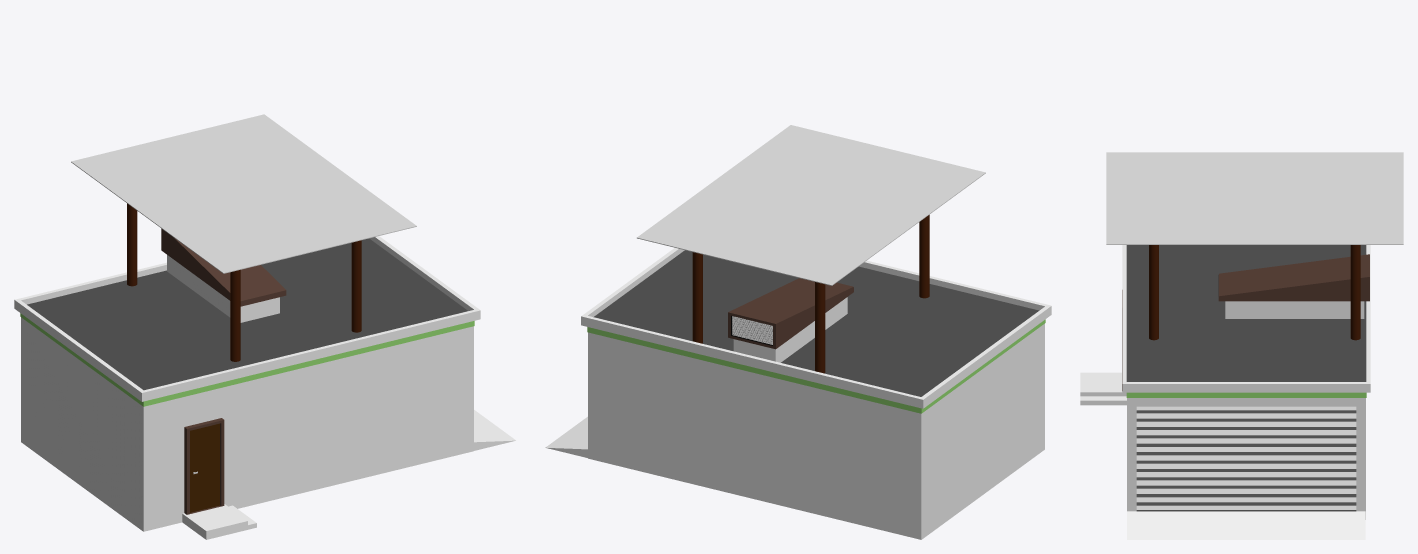
Rendered from garage_imp.glb.
3 renders of one model, left to right at view 1: azimuth 30°, elevation 25°; view 2: azimuth 150°, elevation 25°; view 3: azimuth 270°, elevation 25°, orthographic. The views are drawn at different scales.
Parts seen in each view (by area): view 1: Garage, Плоскость, Навес; view 2: Garage, Плоскость, Навес, Решетка на крыше; view 3: Garage, Плоскость, GarageDoor, Навес.
Boxes of the visible parts, <box> form: Garage: <box>14,228,515,539</box>; Плоскость: <box>71,114,416,273</box>; Навес: <box>127,203,361,361</box>; Garage: <box>545,248,1051,539</box>; Плоскость: <box>637,125,985,285</box>; Навес: <box>692,215,929,373</box>; Решетка на крыше: <box>732,316,772,344</box>; Garage: <box>1080,245,1370,539</box>; Плоскость: <box>1106,152,1403,244</box>; GarageDoor: <box>1136,406,1356,510</box>; Навес: <box>1149,245,1360,340</box>.
Size of the model in its own units: 18.12 by 20 by 13.81.
